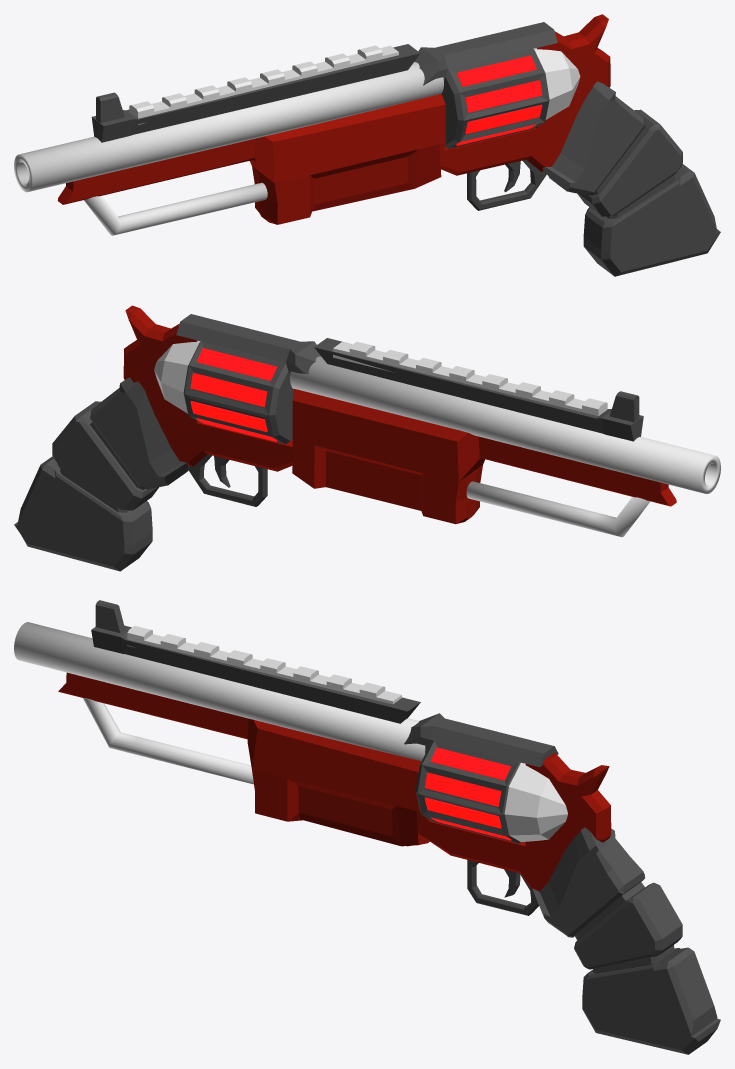
Rendered from revolver.fbx.
3 views of the same model, one above another, from view 1: azimuth 30°, elevation 25°; view 2: azimuth 150°, elevation 25°; view 3: azimuth 330°, elevation 25° (orthographic).
Parts seen in each view (by area): view 1: Plane, Plane.001, Cylinder, Cylinder.003, Cube, Cylinder.002, Cylinder.001, Plane.002, Plane.010, Plane.009, Plane.008; view 2: Plane, Plane.001, Cylinder.003, Cylinder, Cube, Cylinder.002, Cylinder.001, Plane.002, Plane.003, Plane.004, Plane.005; view 3: Plane, Plane.001, Cylinder.003, Cylinder, Cube, Cylinder.001, Cylinder.002, Plane.002, Plane.010, Plane.009, Plane.008.
Boxes of the visible parts, x1=… form: Plane: x1=57, y1=14, x2=610, y2=224; Plane.001: x1=543, y1=81, x2=720, y2=276; Cylinder: x1=91, y1=22, x2=557, y2=148; Cylinder.003: x1=14, y1=62, x2=443, y2=192; Cube: x1=129, y1=45, x2=398, y2=124; Cylinder.002: x1=84, y1=182, x2=267, y2=235; Cylinder.001: x1=533, y1=48, x2=580, y2=119; Plane.002: x1=467, y1=159, x2=546, y2=210; Plane.010: x1=465, y1=80, x2=542, y2=112; Plane.009: x1=456, y1=55, x2=536, y2=86; Plane.008: x1=465, y1=104, x2=542, y2=134; Plane: x1=123, y1=305, x2=676, y2=524; Plane.001: x1=14, y1=377, x2=188, y2=571; Cylinder.003: x1=290, y1=356, x2=720, y2=493; Cylinder: x1=176, y1=314, x2=643, y2=444; Cube: x1=333, y1=341, x2=607, y2=415; Cylinder.002: x1=466, y1=481, x2=650, y2=537; Cylinder.001: x1=154, y1=340, x2=200, y2=413; Plane.002: x1=187, y1=454, x2=267, y2=506; Plane.003: x1=190, y1=373, x2=267, y2=406; Plane.004: x1=197, y1=348, x2=276, y2=380; Plane.005: x1=190, y1=401, x2=267, y2=431; Plane: x1=58, y1=672, x2=611, y2=891; Plane.001: x1=532, y1=827, x2=720, y2=1054; Cylinder.003: x1=14, y1=622, x2=425, y2=760; Cylinder: x1=91, y1=600, x2=558, y2=843; Cube: x1=127, y1=625, x2=401, y2=704; Cylinder.001: x1=504, y1=762, x2=567, y2=842; Cylinder.002: x1=83, y1=698, x2=253, y2=784; Plane.002: x1=467, y1=860, x2=538, y2=915; Plane.010: x1=424, y1=772, x2=501, y2=806; Plane.009: x1=431, y1=747, x2=510, y2=780; Plane.008: x1=424, y1=797, x2=501, y2=828.
Bounding box in the file's own units: 505 × 207 × 60.79.
